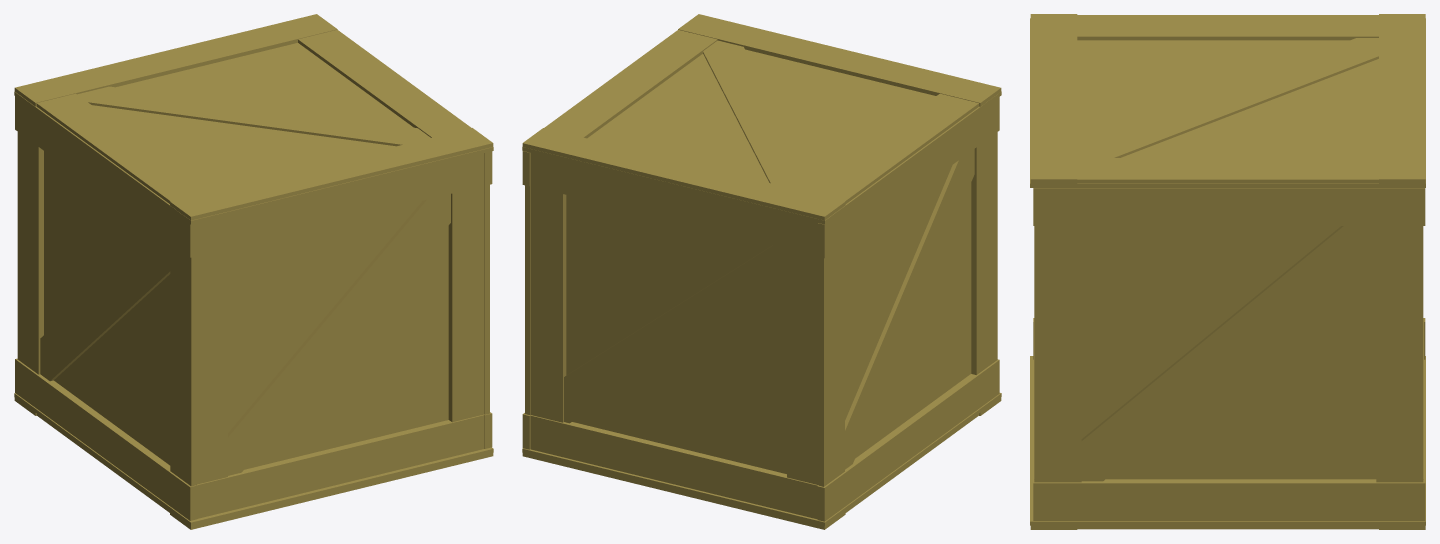
File: Crate.fbx
The picture shows the model from 3 angles, left to right: view 1: azimuth 30°, elevation 25°; view 2: azimuth 150°, elevation 25°; view 3: azimuth 270°, elevation 25°; orthographic projection. The views are drawn at different scales.
Parts seen in each view (by area): view 1: Crate; view 2: Crate; view 3: Crate.
Part boxes in pixels (<box>): Crate: <box>14,14,493,529</box>; Crate: <box>522,14,1001,529</box>; Crate: <box>1030,14,1425,529</box>.
Size of the model in its own units: 1.41 by 1.4 by 1.43.
